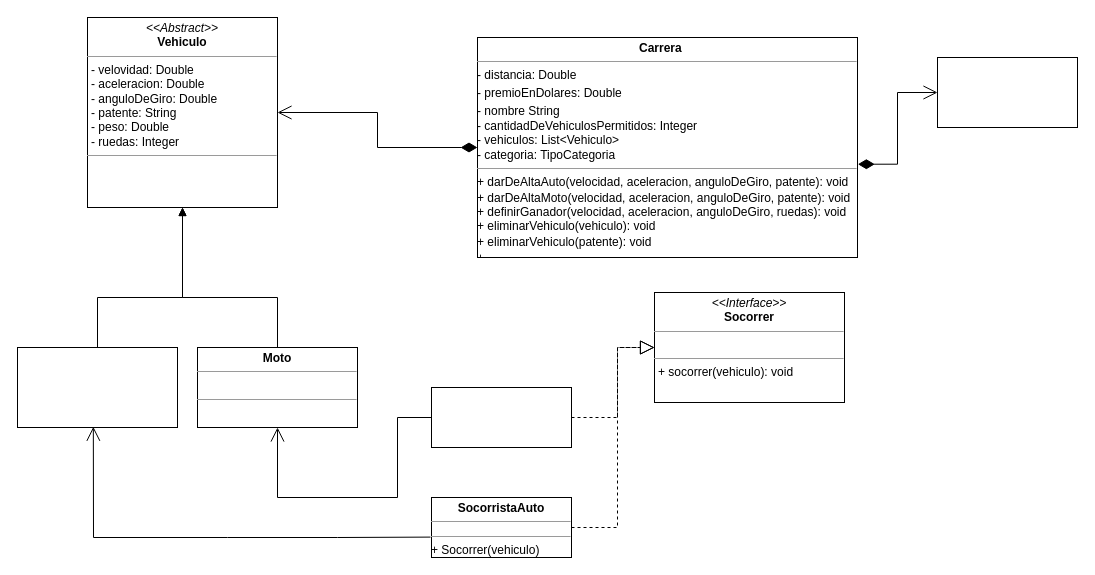
Some shapes in this 1095 by 575 pixel diagram are drawn without their labels. The shapes that lost their labels are listed below. From the top down, each one's box as (x1, y1, x2, y2) in pixels, then its label:
(936, 56, 1078, 128): TipoCategoria AUTO, MOTO
(16, 346, 178, 428): Auto
(430, 386, 572, 448): SocorristaMoto + Socorrer(vehiculo)
